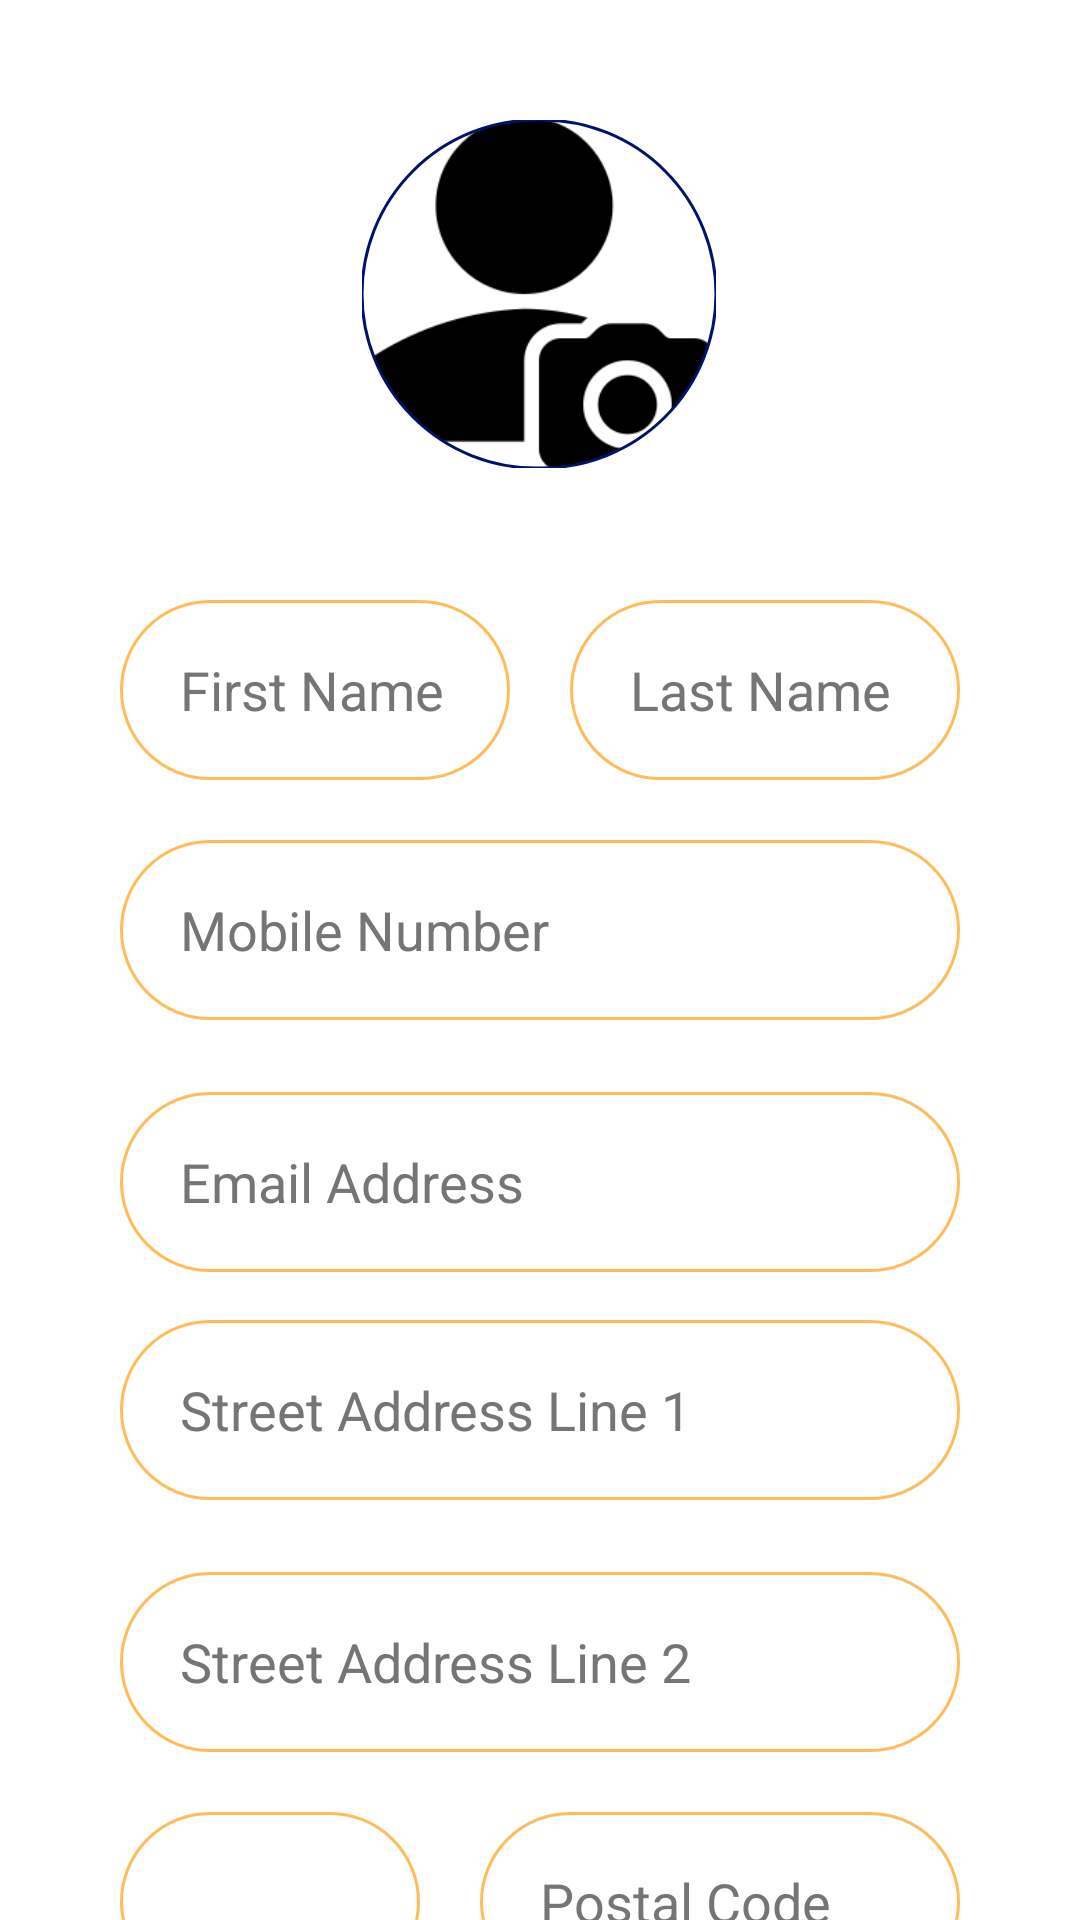

Screen size 1080w x 1920h. Icon name, then its box in pixels as [x1, y1, x2, y2]:
camera: [362, 120, 716, 468]
